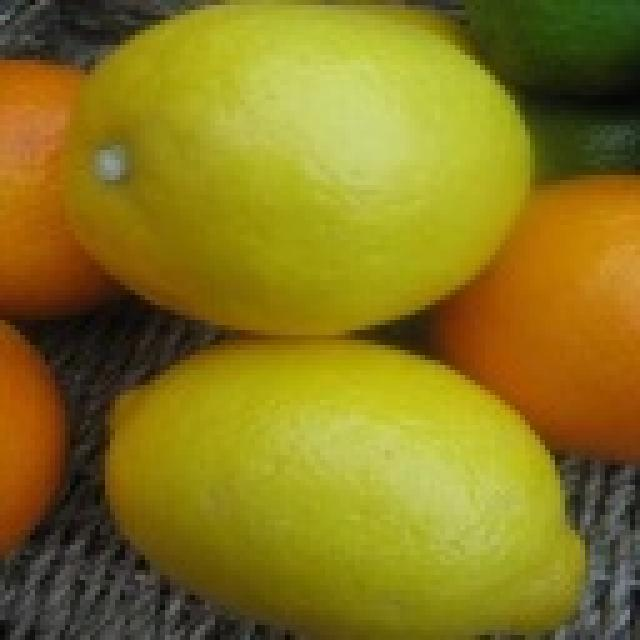lemon: (58, 0, 525, 332), (104, 336, 588, 640)
